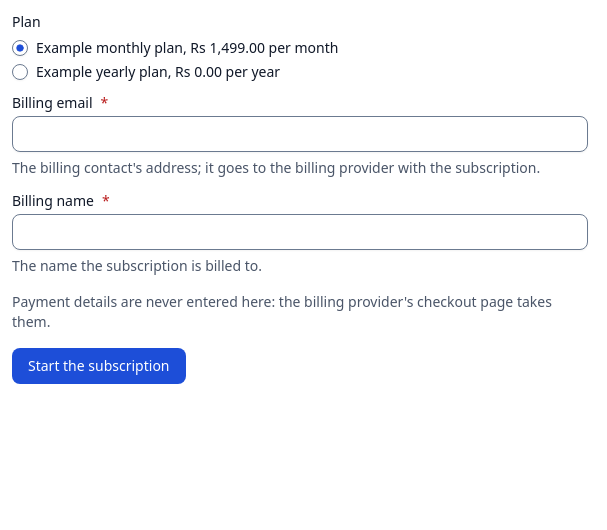
Test: SubscribeForm › says plainly that billing is not connected, with the reference, when the service has no provider
Click the radio button named "Example yearly plan" next to "Example yearly plan, Rs 0.00 per year": (20, 72) [12,64,28,80]
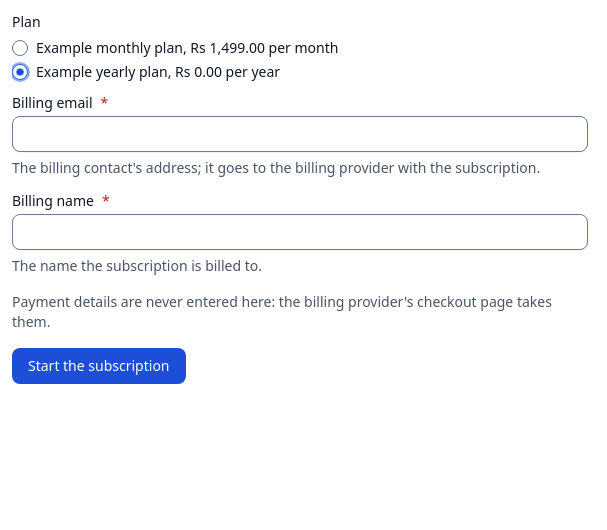
In the field labelled "Billing email *": (300, 134) [12,116,588,152], type "owner@example.com"
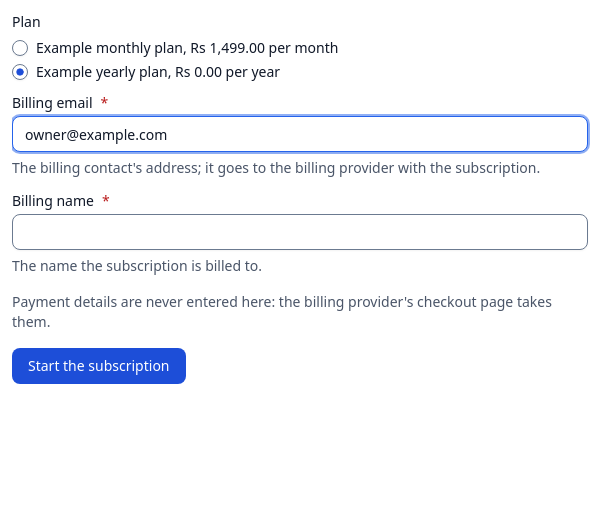
In the field labelled "Billing name *": (300, 232) [12,214,588,250], type "Example Traders"
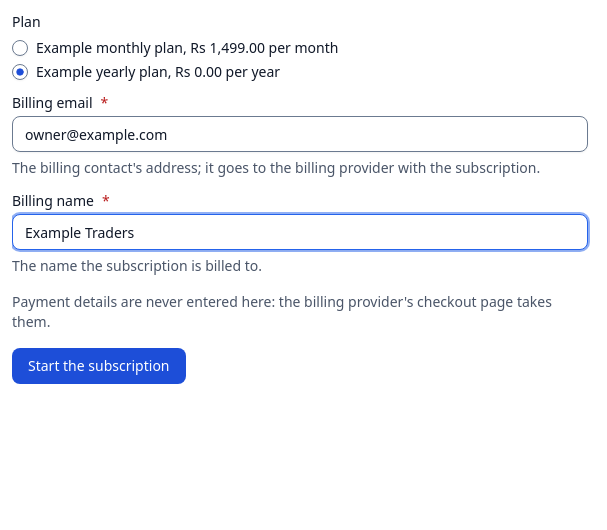
Click the button "Start the subscription": (99, 366) [12,348,186,384]
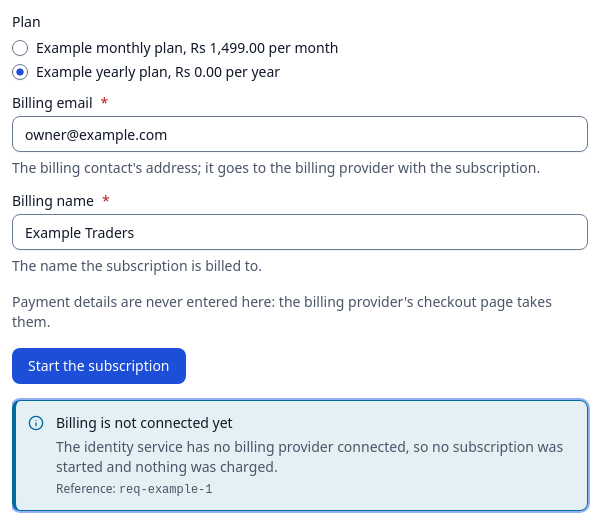
Expected: the message shows "Billing is not connected yet", [56,413,233,432]
Expected: the message shows "nothing was charged", [56,437,563,476]
Expected: the message shows "req-example-1", [119,483,212,497]
